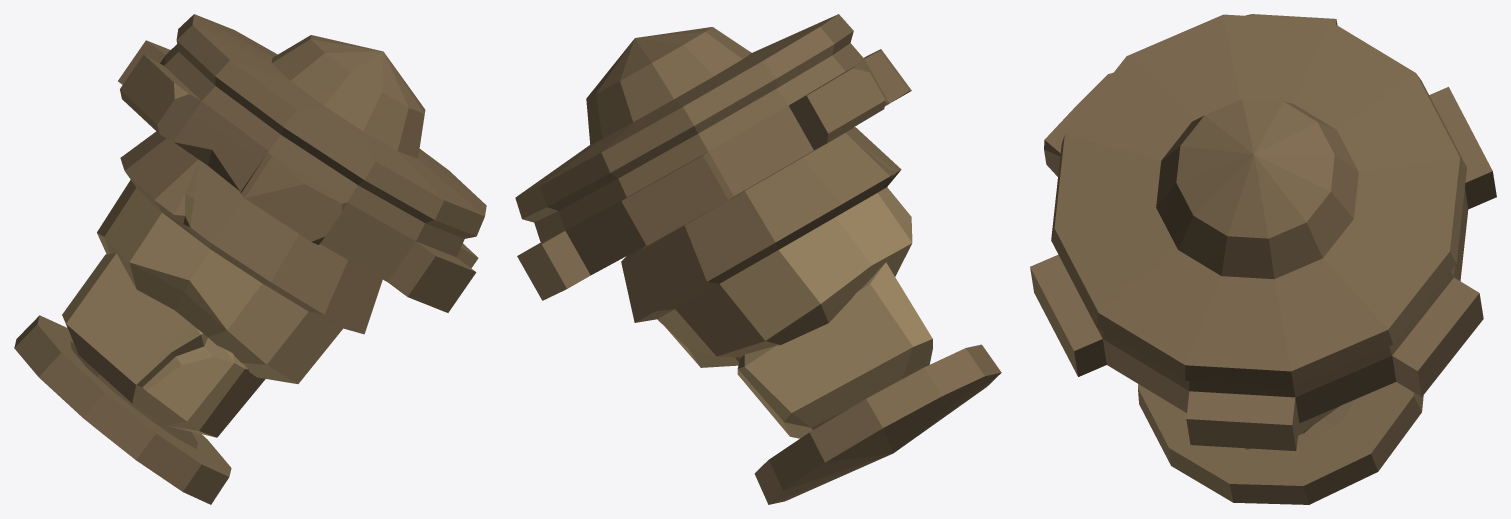
File: arm_r_upper.gltf
The picture shows the model from 3 angles, left to right: view 1: azimuth 30°, elevation 25°; view 2: azimuth 150°, elevation 25°; view 3: azimuth 270°, elevation 25°; orthographic projection. The views are drawn at different scales.
Visible parts, largest first — view 1: arm_r_upper; view 2: arm_r_upper; view 3: arm_r_upper.
Boxes of the visible parts, x1,y1,x2,y2 form: arm_r_upper: [14, 14, 486, 504]; arm_r_upper: [515, 14, 1001, 504]; arm_r_upper: [1030, 14, 1496, 504].
Size of the model in its own units: 3.71 by 3.64 by 3.11.
Materials: 1 (1 with a texture image).
